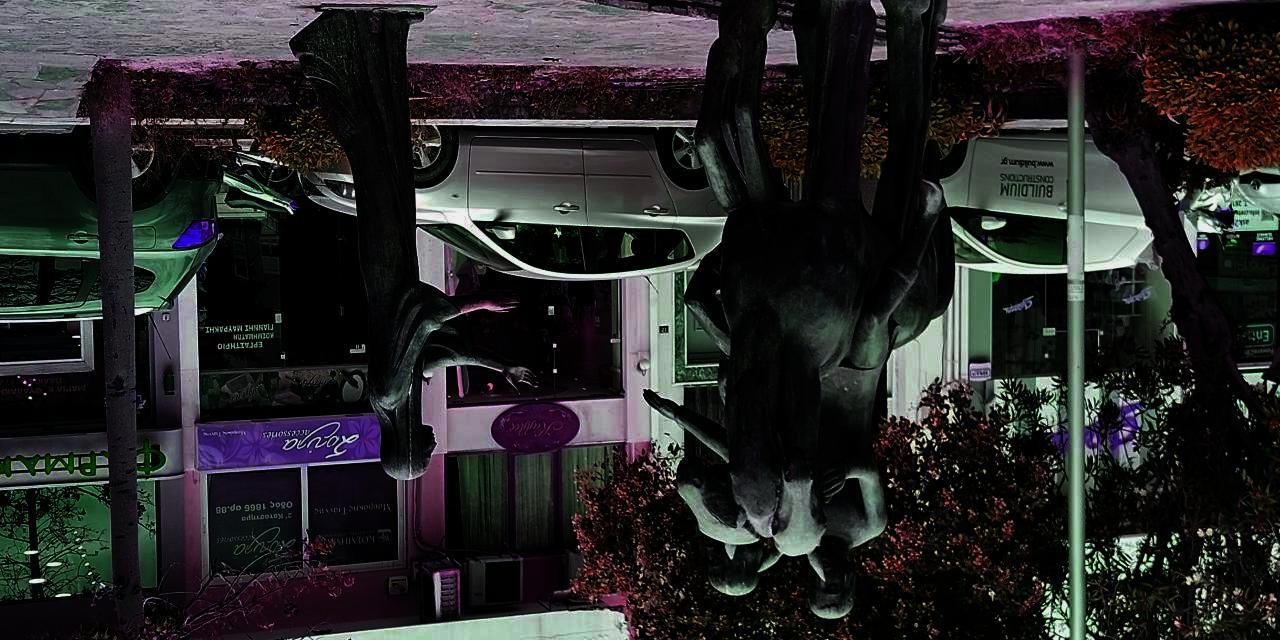Aretousa: (291, 1, 960, 624)
